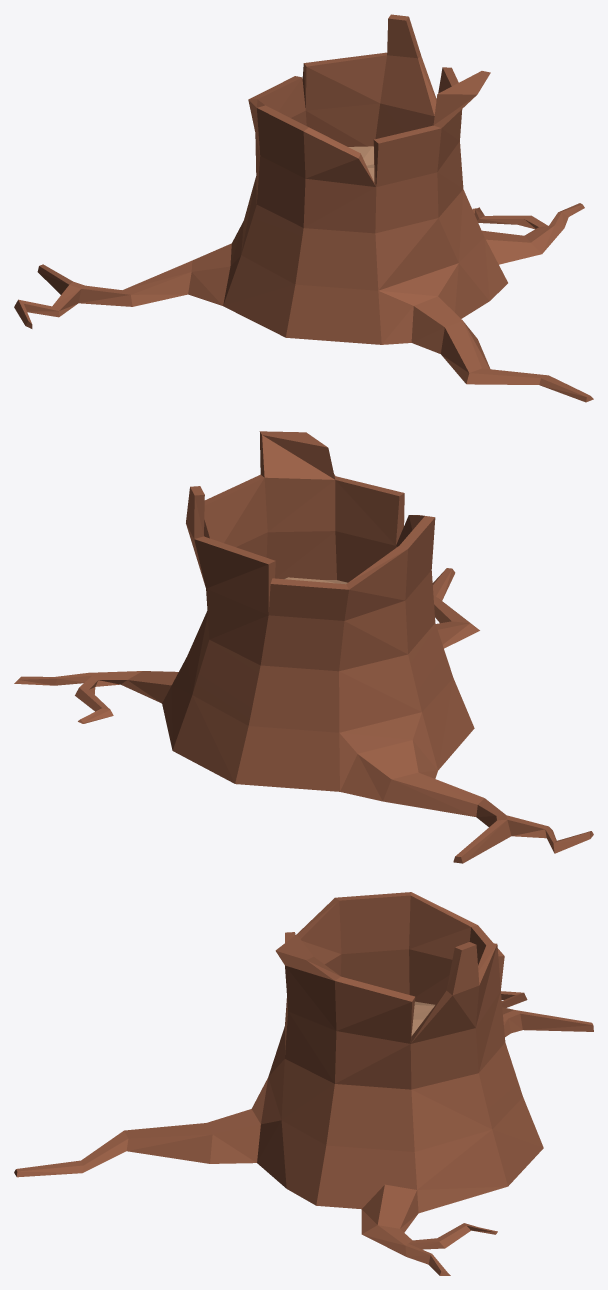
File: TreeTrunk_3.fbx
3 renders of one model, top to bottom at view 1: azimuth 30°, elevation 25°; view 2: azimuth 150°, elevation 25°; view 3: azimuth 270°, elevation 25°, orthographic. The views are drawn at different scales.
Parts seen in each view (by area): view 1: TreeTrunk_3; view 2: TreeTrunk_3; view 3: TreeTrunk_3.
Boxes of the visible parts, left/top/right/bottom form: TreeTrunk_3: left=14, top=14, right=593, bottom=402; TreeTrunk_3: left=14, top=431, right=593, bottom=863; TreeTrunk_3: left=14, top=892, right=593, bottom=1275.
Bounding box in the file's own units: 1.84 × 0.7293 × 1.6.
